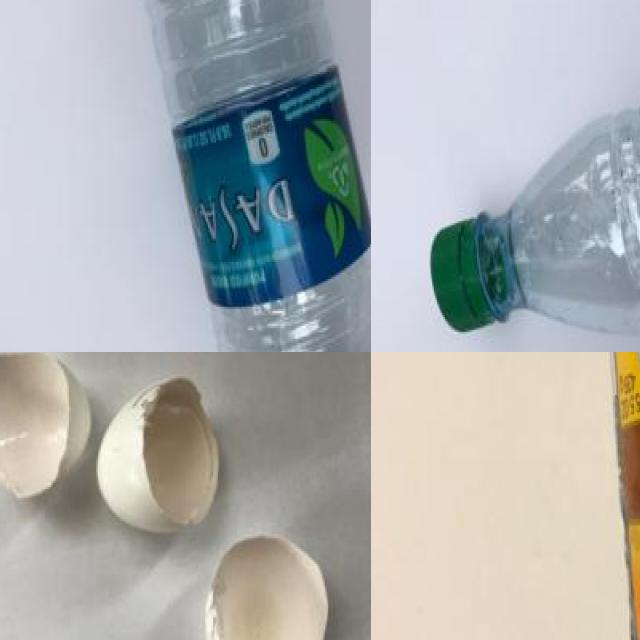compost: (0, 352, 350, 640)
plastic: (136, 0, 371, 352), (438, 30, 640, 341), (582, 352, 640, 640)
